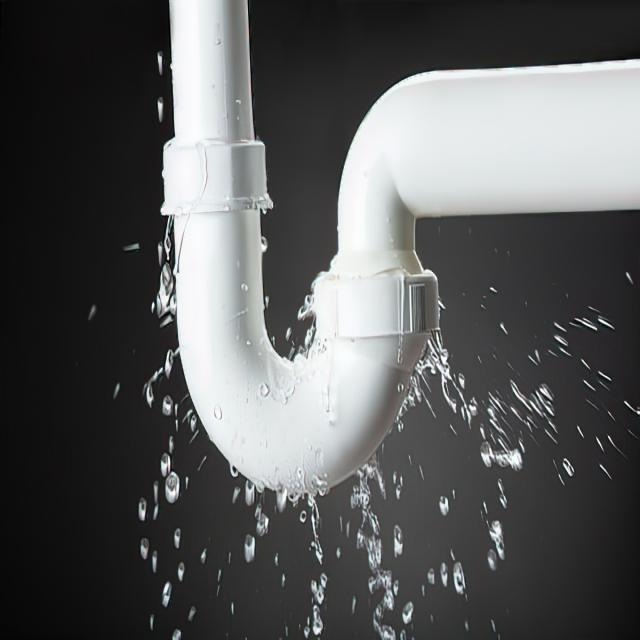leak: (350, 454, 399, 639), (395, 328, 480, 431), (480, 379, 555, 472), (151, 223, 176, 326), (144, 349, 180, 407), (480, 499, 505, 571), (300, 495, 324, 565), (304, 572, 329, 638), (160, 437, 181, 504), (245, 482, 270, 536), (451, 551, 468, 597), (181, 405, 199, 437), (161, 396, 184, 421), (439, 491, 456, 516), (401, 602, 412, 626), (245, 536, 255, 562), (394, 525, 402, 557), (139, 497, 149, 521)
